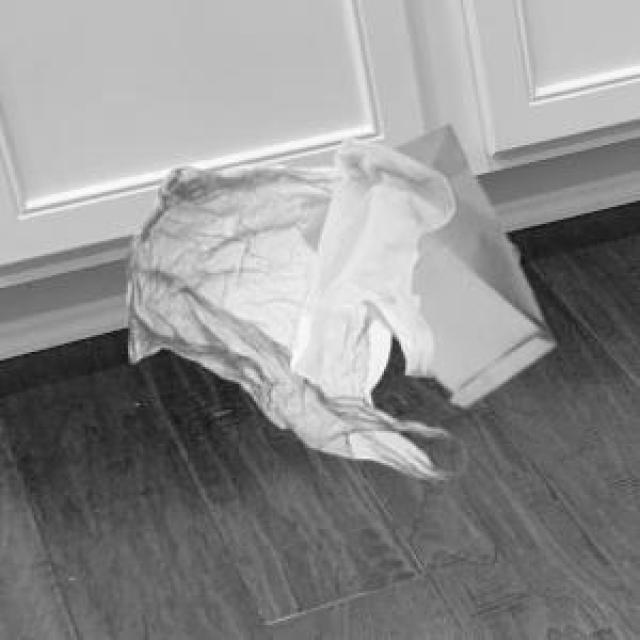paper: (299, 122, 550, 401)
